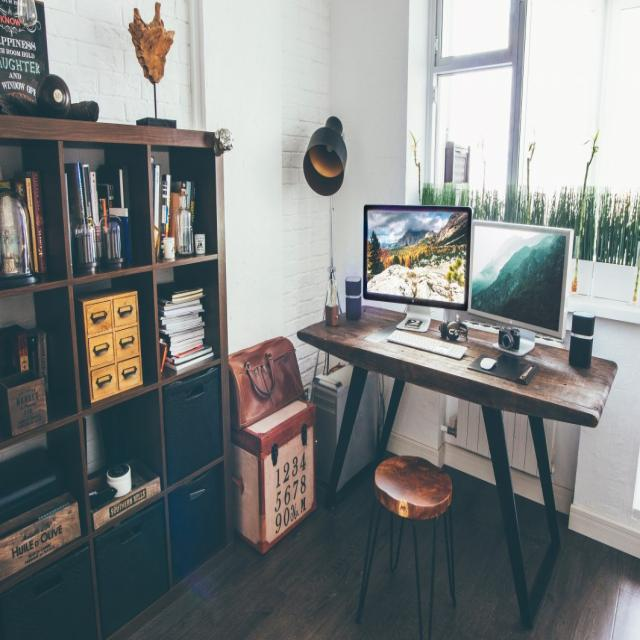chair: (360, 448, 468, 638)
computer: (465, 212, 579, 384), (364, 208, 474, 367)
desk: (303, 291, 640, 452)
wardrobe: (6, 114, 236, 627)
window: (430, 0, 640, 262)
